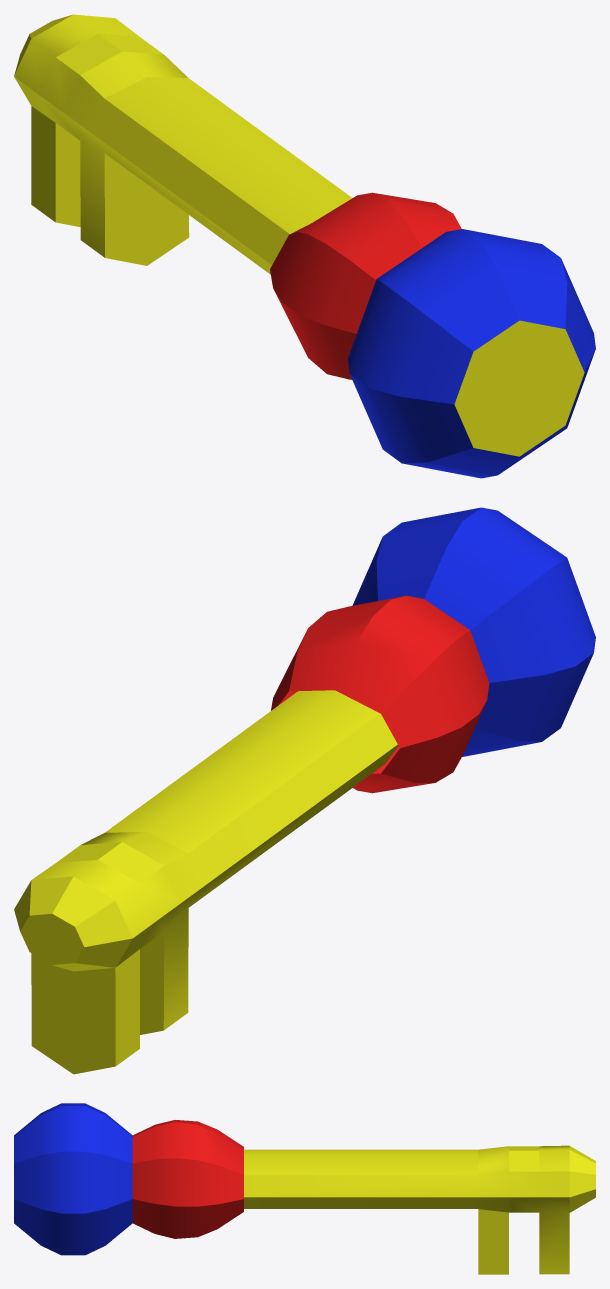
The model's file is Key.fbx.
The picture shows the model from 3 angles, top to bottom: view 1: azimuth 30°, elevation 25°; view 2: azimuth 150°, elevation 25°; view 3: azimuth 270°, elevation 25°; orthographic projection. The views are drawn at different scales.
Parts seen in each view (by area): view 1: Body, BigBall, Ball; view 2: Body, BigBall, Ball; view 3: Body, BigBall, Ball.
Part boxes in pixels (bbox=[...]): Body: bbox=[14, 14, 352, 274]; BigBall: bbox=[348, 229, 595, 478]; Ball: bbox=[270, 192, 461, 379]; Body: bbox=[14, 690, 398, 1074]; BigBall: bbox=[352, 507, 595, 756]; Ball: bbox=[271, 595, 489, 793]; Body: bbox=[244, 1145, 595, 1274]; BigBall: bbox=[14, 1103, 132, 1255]; Ball: bbox=[132, 1120, 243, 1238].
Bounding box in the file's own units: 84.68 × 96.41 × 304.
